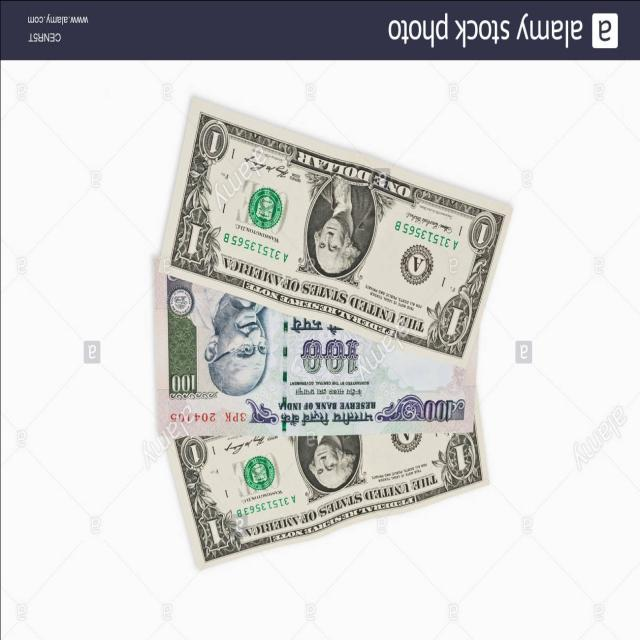100IndianRupees: (154, 262, 477, 440)
